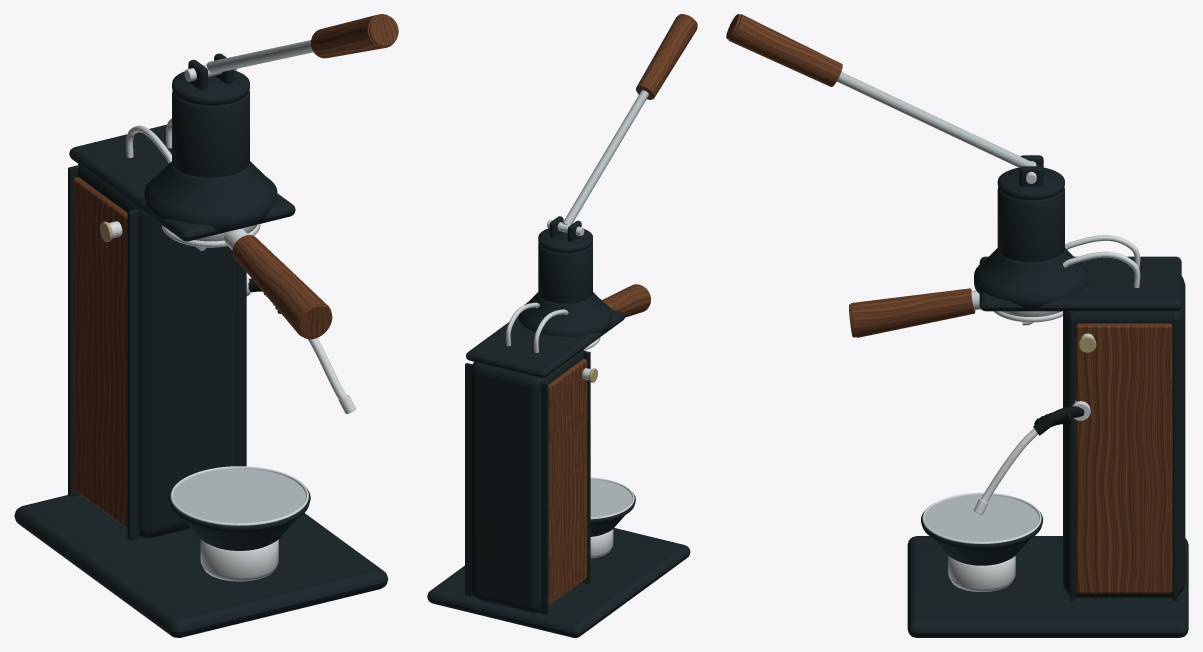
Rendered from espresso-machine.glb.
3 renders of one model, left to right at view 1: azimuth 30°, elevation 25°; view 2: azimuth 150°, elevation 25°; view 3: azimuth 270°, elevation 25°, orthographic. The views are drawn at different scales.
Visible parts, largest first — view 1: Upright boiler housing, Cast foot, Walnut side panel, Group bell, Perforated stainless drip plate, Lever piston cylinder, Upper support bridge, Panel edge rail, Walnut portafilter handle, Drip bowl, Drip pedestal, Walnut lever grip (+9 smaller); view 2: Upright boiler housing, Cast foot, Walnut side panel, Upper support bridge, Lever piston cylinder, Group bell, Walnut lever grip, Panel edge rail.001, Lever steel shaft, Panel edge rail.003, Perforated stainless drip plate, Walnut portafilter handle (+4 smaller); view 3: Walnut side panel.001, Cast foot, Upright boiler housing, Upper support bridge, Group bell, Lever piston cylinder, Perforated stainless drip plate, Walnut portafilter handle, Walnut lever grip, Lever steel shaft, Drip bowl, Drip pedestal (+5 smaller).
Boxes of the visible parts, x1,y1,x2,y2 form: Upright boiler housing: (77,164,238,538); Cast foot: (14,494,388,637); Walnut side panel: (73,177,127,527); Group bell: (144,161,277,230); Perforated stainless drip plate: (173,468,305,523); Lever piston cylinder: (172,90,249,177); Upper support bridge: (69,124,295,241); Panel edge rail: (127,209,139,540); Walnut portafilter handle: (232,235,331,336); Drip bowl: (168,487,310,550); Drip pedestal: (200,539,278,581); Walnut lever grip: (311,14,394,58); Upright boiler housing: (470,349,583,613); Cast foot: (427,528,690,637); Walnut side panel: (548,359,587,605); Upper support bridge: (466,309,625,378); Lever piston cylinder: (538,242,592,303); Group bell: (519,292,612,336); Walnut lever grip: (636,15,697,99); Panel edge rail.001: (540,381,548,614); Lever steel shaft: (562,90,648,224); Panel edge rail.003: (465,363,472,596); Perforated stainless drip plate: (590,479,632,517); Walnut portafilter handle: (602,284,650,317); Walnut side panel.001: (1075,323,1172,593); Cast foot: (907,536,1188,637); Upright boiler housing: (1063,276,1185,597); Upper support bridge: (979,256,1181,311); Group bell: (974,248,1088,308); Lever piston cylinder: (997,187,1064,262); Perforated stainless drip plate: (925,495,1039,541); Walnut portafilter handle: (850,288,975,337); Walnut lever grip: (728,14,842,86); Lever steel shaft: (837,72,1033,167); Drip bowl: (921,511,1042,565); Drip pedestal: (948,556,1015,591).
Bounding box in the file's own units: 0.2248 × 0.6493 × 0.4688.
6 materials, 1 textured.
